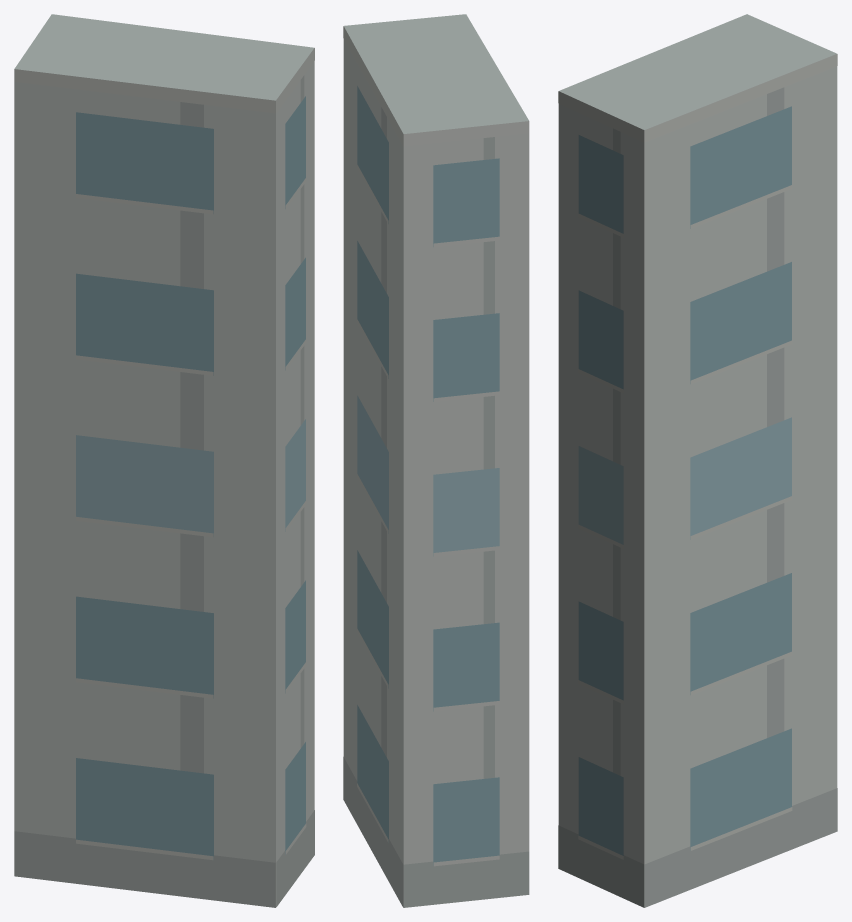
The model's file is survey-upis-32783494.glb.
The picture shows the model from 3 angles, left to right: view 1: azimuth 30°, elevation 25°; view 2: azimuth 150°, elevation 25°; view 3: azimuth 270°, elevation 25°; orthographic projection. The views are drawn at different scales.
Parts seen in each view (by area): view 1: survey-upis-32783494.tmp; view 2: survey-upis-32783494.tmp; view 3: survey-upis-32783494.tmp.
Part boxes in pixels (x1,y1,x2,y2): survey-upis-32783494.tmp: (14,14,314,907); survey-upis-32783494.tmp: (343,14,529,907); survey-upis-32783494.tmp: (558,14,837,907).
Bounding box in the file's own units: 4.89 × 15.25 × 4.96.
